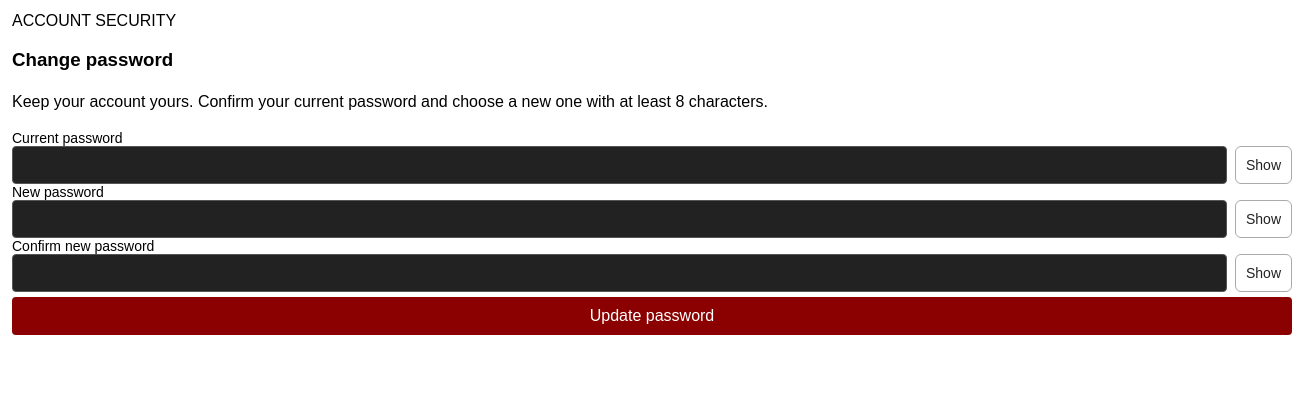
Test: password change sends current and new passwords and clears fields on success
Type "old-password" into the password field labelled "Current password" at (620, 165), box [12,146,1227,184]
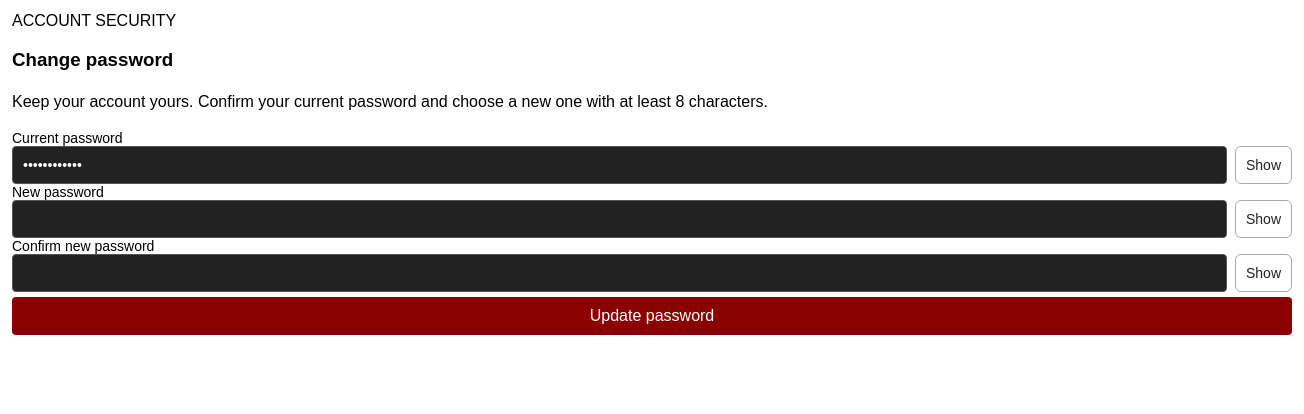
Type "new-password" into the password field labelled "New password" at (620, 219), box [12,200,1227,238]
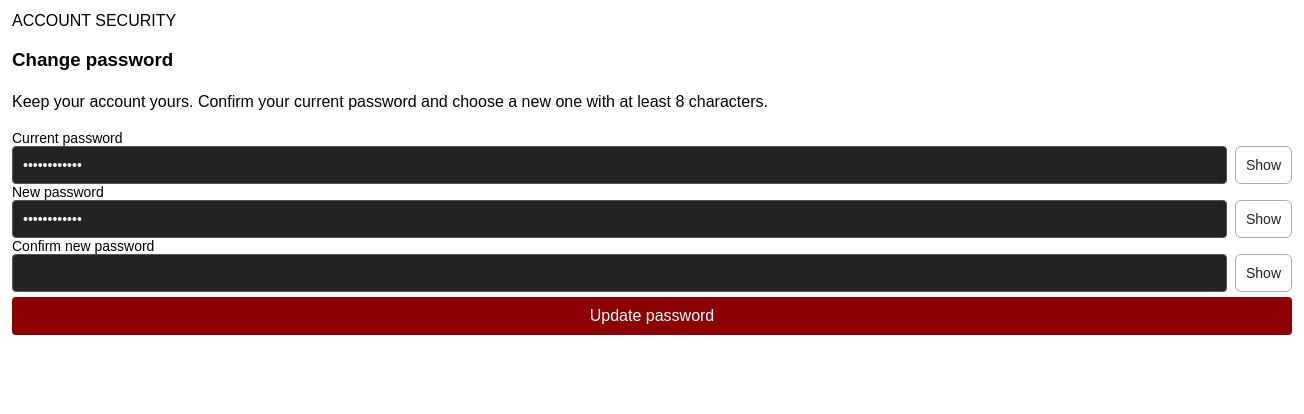
Type "new-password" into the password field labelled "Confirm new password" at (620, 273), box [12,254,1227,292]
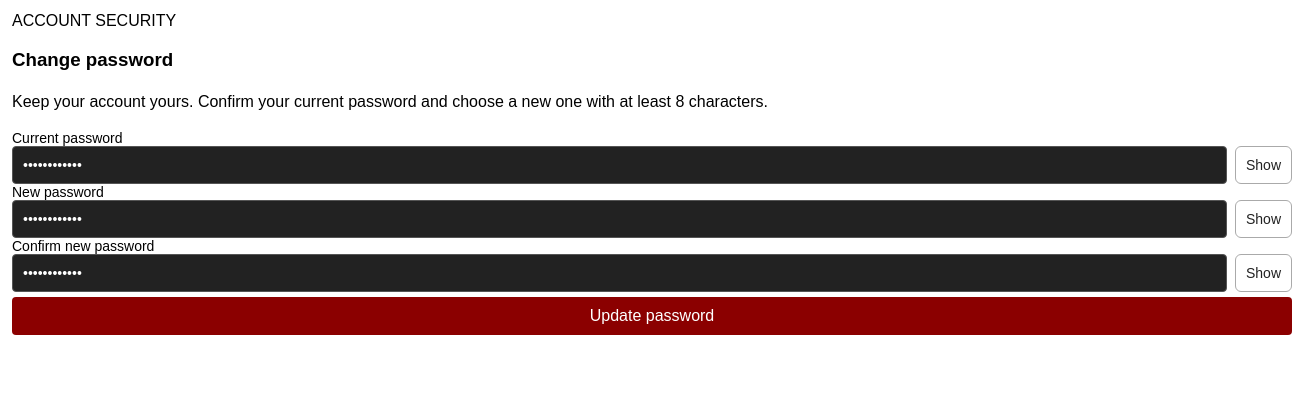
Click the button "Update password" at (652, 316), box [12,297,1292,335]
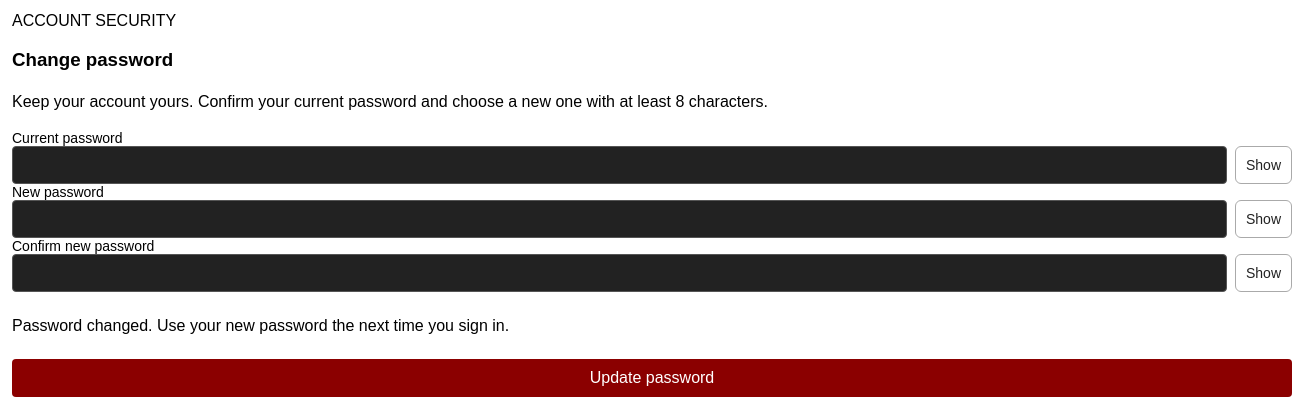
Expected: the message shows "Password changed", [12,317,509,334]
Expected: the password field labelled "Current password" is empty, [12,146,1227,184]
Expected: the password field labelled "New password" is empty, [12,200,1227,238]
